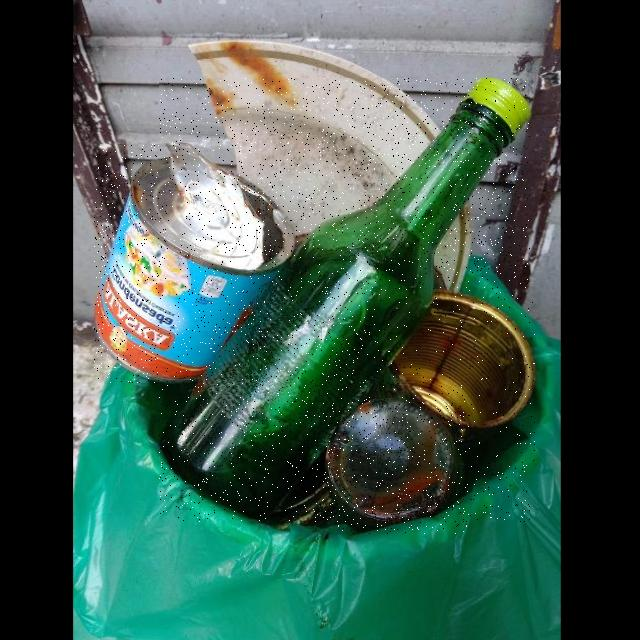glass: (160, 78, 530, 522), (324, 401, 467, 534)
metal: (94, 145, 296, 384), (376, 291, 535, 463)
